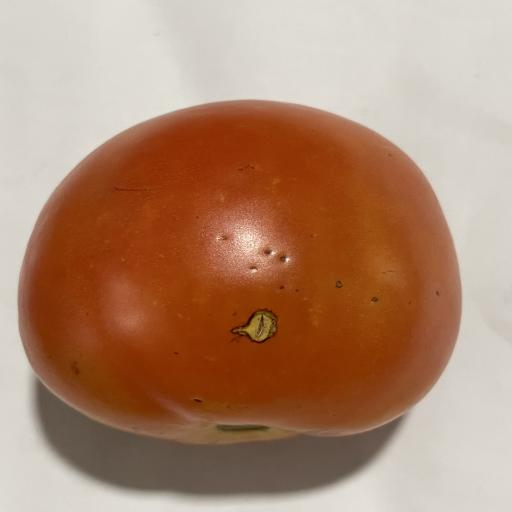unripe: (18, 101, 460, 444)
